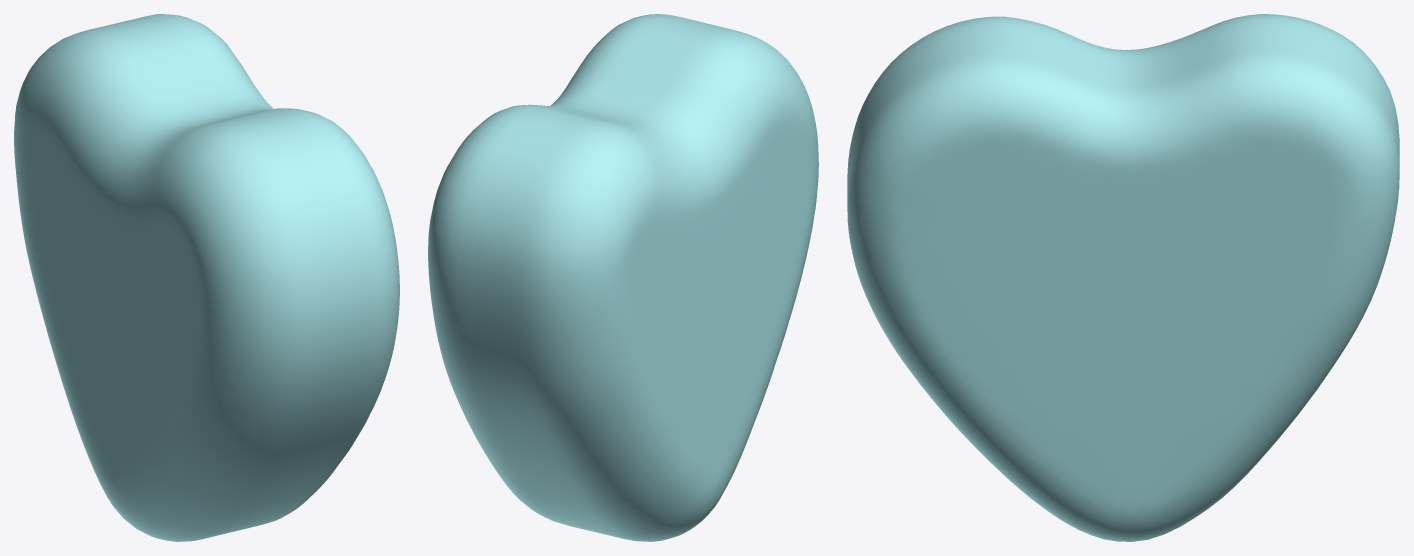
The model's file is Heart_Pill_Individual_Blue.glb.
3 renders of one model, left to right at view 1: azimuth 30°, elevation 25°; view 2: azimuth 150°, elevation 25°; view 3: azimuth 270°, elevation 25°, orthographic. The views are drawn at different scales.
Visible parts, largest first — view 1: Heart_Pill.003; view 2: Heart_Pill.003; view 3: Heart_Pill.003.
Boxes of the visible parts, x1,y1,x2,y2 form: Heart_Pill.003: [14, 14, 399, 541]; Heart_Pill.003: [428, 14, 818, 541]; Heart_Pill.003: [847, 14, 1399, 541].
Bounding box in the file's own units: 0.6037 × 1.44 × 1.5.
1 material, 1 textured.
